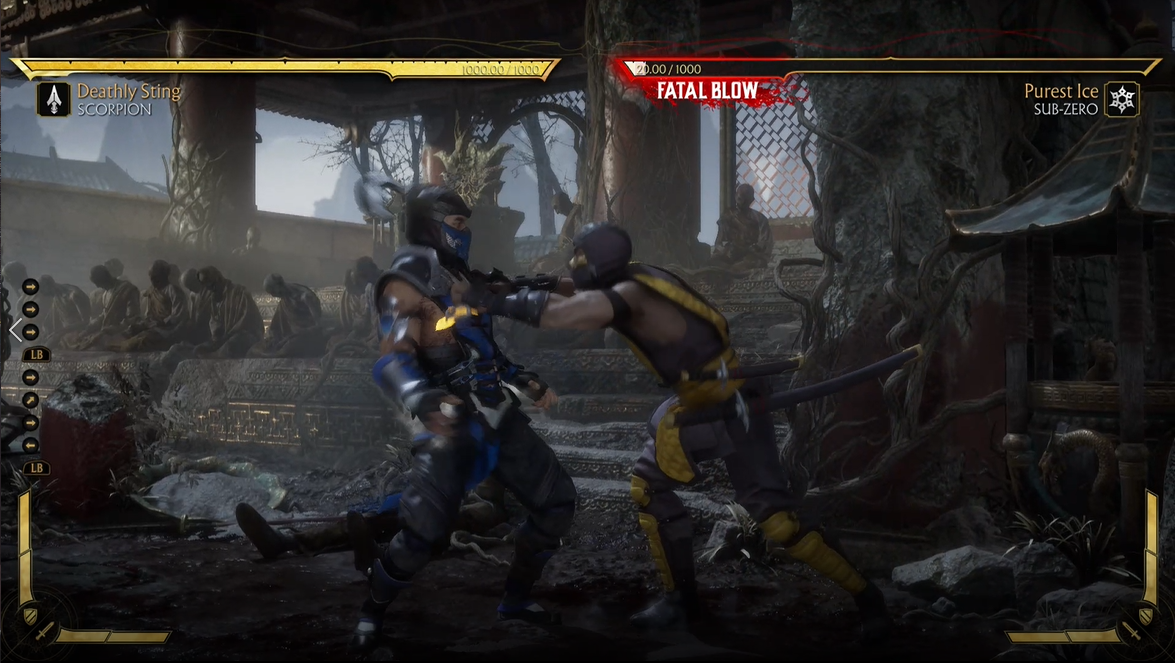grab: (323, 172, 949, 632)
